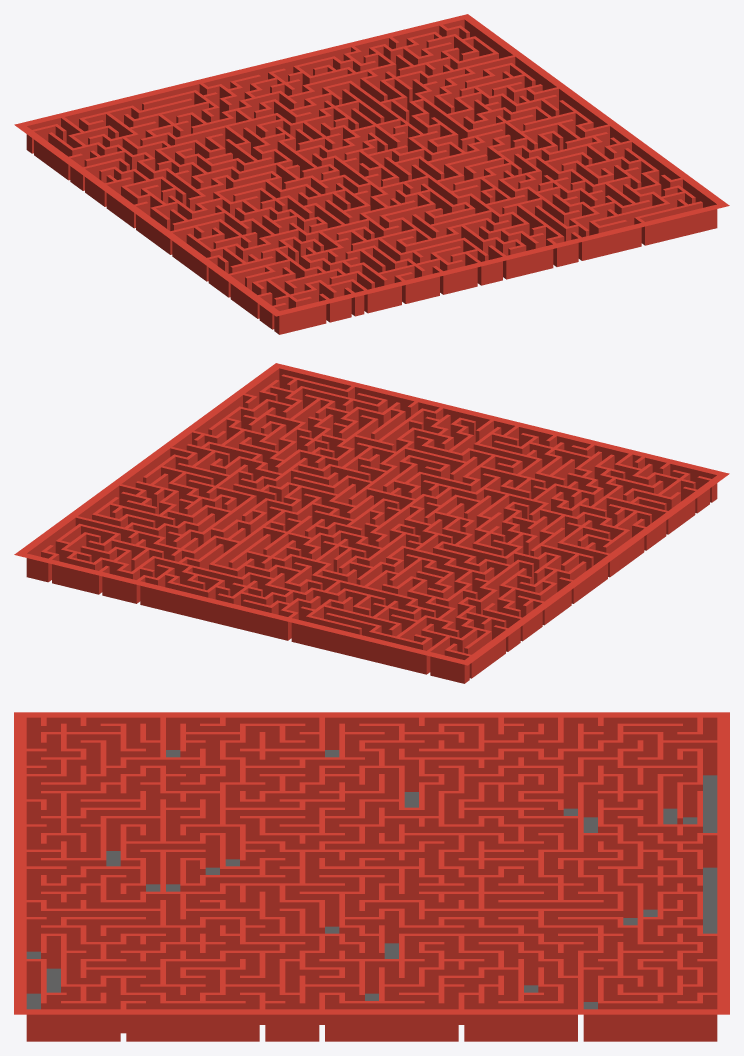
File: FMPY2_Maze.fbx
The picture shows the model from 3 angles, top to bottom: view 1: azimuth 30°, elevation 25°; view 2: azimuth 150°, elevation 25°; view 3: azimuth 270°, elevation 25°; orthographic projection. The views are drawn at different scales.
Parts seen in each view (by area): view 1: Maze Body; view 2: Maze Body; view 3: Maze Body.
Boxes of the visible parts, left/top/right/bottom form: Maze Body: left=14, top=14, right=729, bottom=334; Maze Body: left=14, top=363, right=729, bottom=683; Maze Body: left=14, top=712, right=729, bottom=1041.
Bounding box in the file's own units: 80 × 80 × 4.
